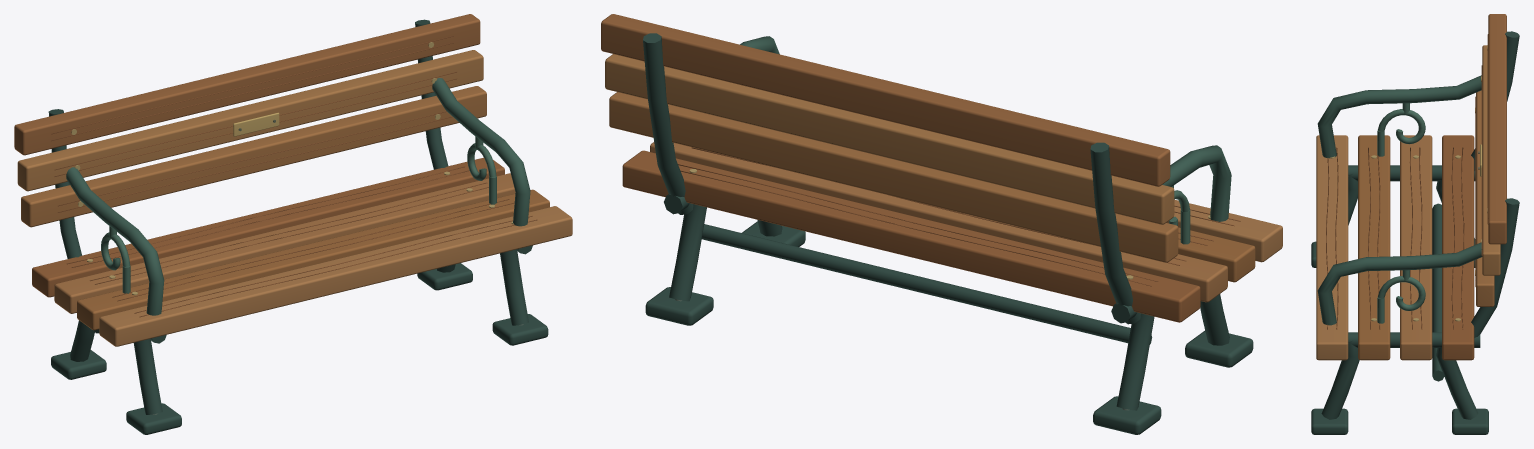
Rendered from park-bench.glb.
3 views of the same model, side by side, from view 1: azimuth 30°, elevation 25°; view 2: azimuth 150°, elevation 25°; view 3: azimuth 270°, elevation 25° (orthographic). The views are drawn at different scales.
Visible parts, largest first — view 1: Valencia_Park_Bench; view 2: Valencia_Park_Bench; view 3: Valencia_Park_Bench.
Boxes of the visible parts, x1,y1,x2,y2 form: Valencia_Park_Bench: [14, 14, 572, 434]; Valencia_Park_Bench: [601, 14, 1282, 434]; Valencia_Park_Bench: [1311, 14, 1519, 434].
Bounding box in the file's own units: 2 × 1.01 × 0.8447.
